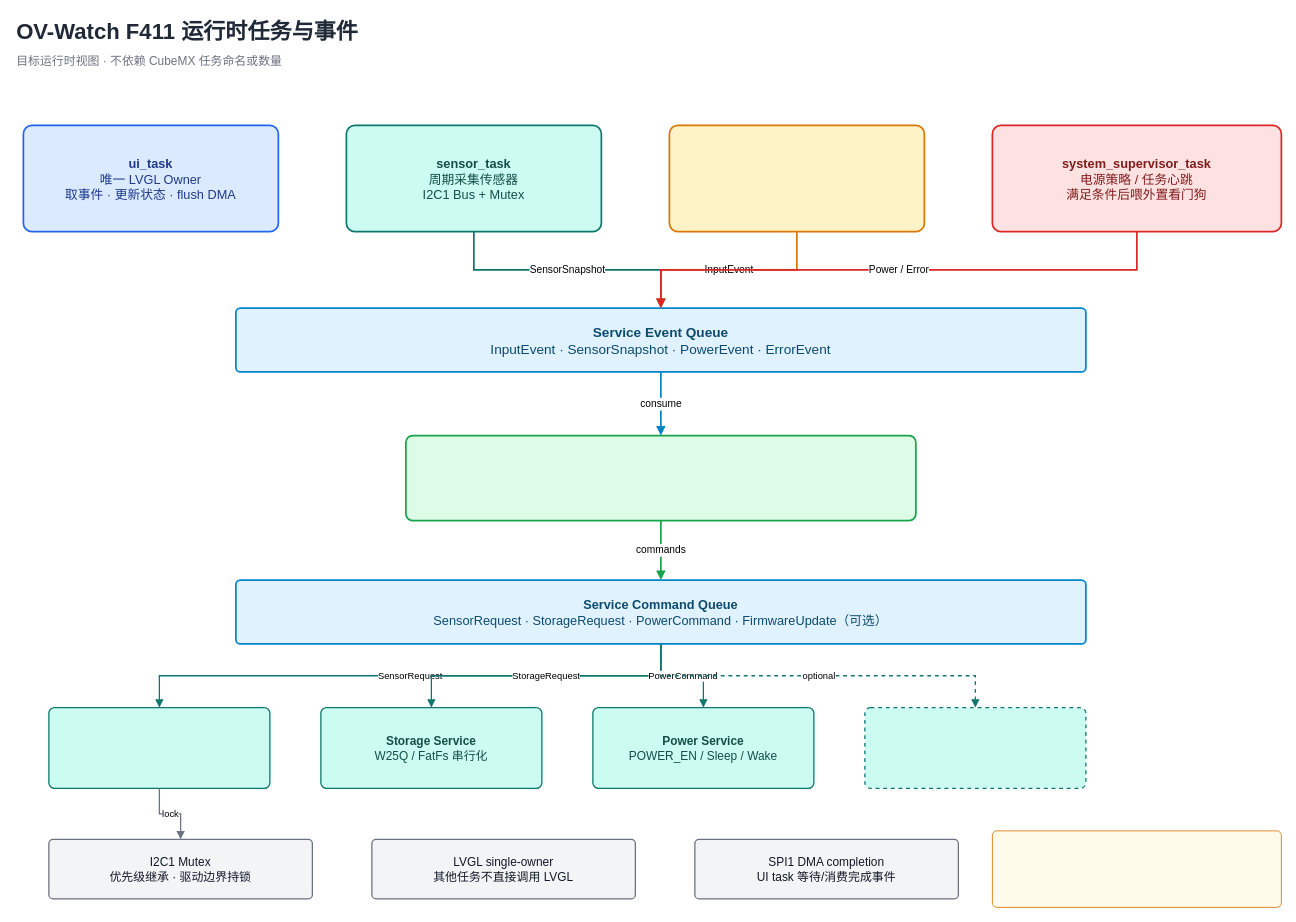
Image size: 1296x922. Some labels were removed from this diagram. The box of each missing label's shape, as (x1, y1, x2, y2) in pixels:
Connectivity Service（可选） BLE / USB / OTA: (864, 707, 1086, 789)
CubeMX freertos.c 的任务只是生成模板；实际实现可重新配置、删除或重建，不以历史任务名为架构约束。: (992, 830, 1281, 907)
input_task 触摸 / 编码器 / 按键扫描 生成 InputEvent: (668, 124, 925, 232)
Sensor Service 驱动调用 · 快照发布: (48, 707, 270, 789)
watch_core 状态机消费事件，产生状态快照和服务命令: (405, 434, 916, 521)
